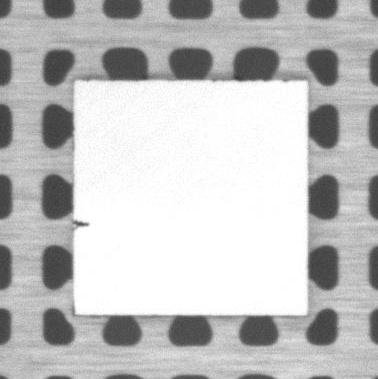DIE_INK: (73, 219, 92, 230)
